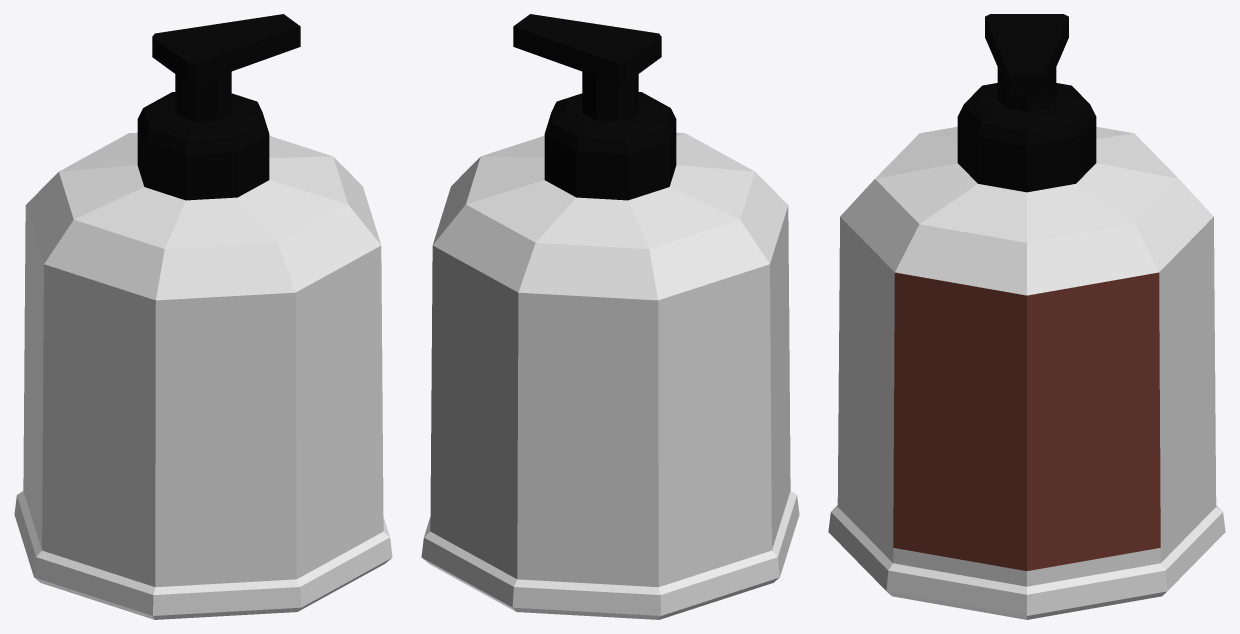
The model's file is Ma_Soap_Liquid_1.fbx.
3 views of the same model, side by side, from view 1: azimuth 30°, elevation 25°; view 2: azimuth 150°, elevation 25°; view 3: azimuth 270°, elevation 25° (orthographic).
Parts seen in each view (by area): view 1: Ma_Soap_Liquid_1; view 2: Ma_Soap_Liquid_1; view 3: Ma_Soap_Liquid_1.
Part boxes in pixels (bbox=[...]): Ma_Soap_Liquid_1: bbox=[14, 14, 392, 619]; Ma_Soap_Liquid_1: bbox=[421, 14, 799, 619]; Ma_Soap_Liquid_1: bbox=[828, 14, 1225, 619].
Bounding box in the file's own units: 74.29 × 74.29 × 105.
